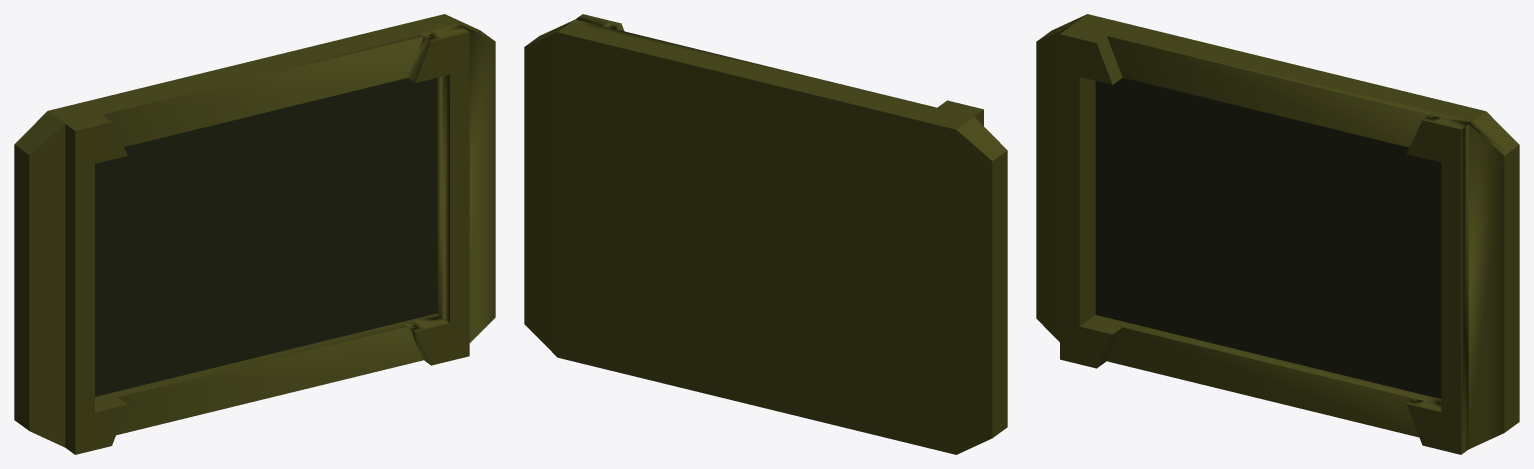
Rendered from SM_Venus_Tablet.fbx.
3 renders of one model, left to right at view 1: azimuth 30°, elevation 25°; view 2: azimuth 150°, elevation 25°; view 3: azimuth 330°, elevation 25°, orthographic.
Visible parts, largest first — view 1: SM_Venus_Tablet; view 2: SM_Venus_Tablet; view 3: SM_Venus_Tablet.
Boxes of the visible parts, x1,y1,x2,y2 form: SM_Venus_Tablet: (14,14,495,454); SM_Venus_Tablet: (524,14,1007,454); SM_Venus_Tablet: (1036,14,1519,454).
Bounding box in the file's own units: 1.04 × 0.6907 × 0.1065.
